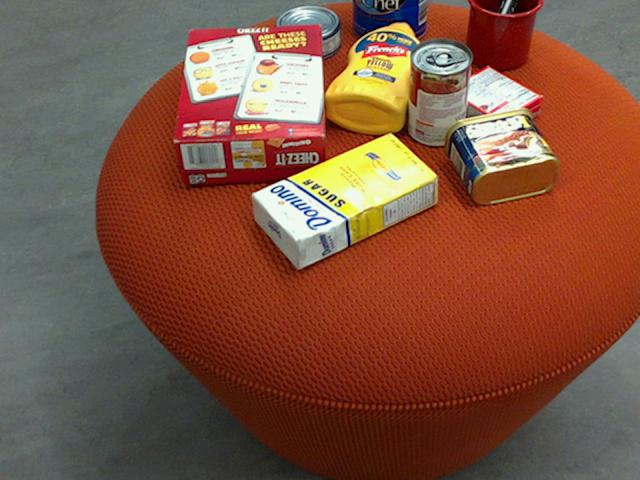cracker_box: (170, 22, 325, 182)
gelatin_box: (446, 67, 543, 137)
large_marker: (477, 0, 515, 60)
master_chef_can: (351, 0, 427, 43)
mug: (464, 0, 542, 69)
mustard_bottle: (322, 22, 425, 133)
potted_meat_can: (442, 106, 557, 203)
sugar_box: (250, 131, 438, 270)
tomato_soup_can: (407, 37, 471, 145)
tuna_fish_can: (273, 5, 339, 59)
